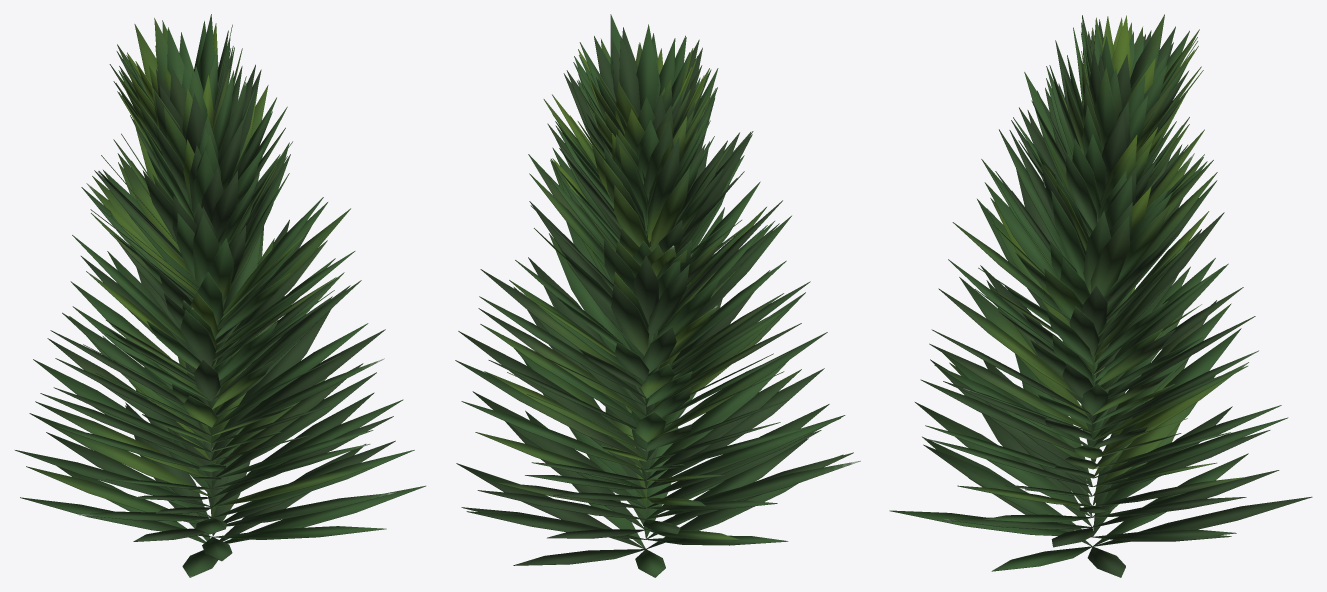
Rendered from bush2.glb.
3 views of the same model, side by side, from view 1: azimuth 30°, elevation 25°; view 2: azimuth 150°, elevation 25°; view 3: azimuth 270°, elevation 25° (orthographic). The views are drawn at different scales.
Visible parts, largest first — view 1: leaves.001; view 2: leaves.001; view 3: leaves.001.
Boxes of the visible parts, left/top/right/bottom form: leaves.001: left=15, top=14, right=425, bottom=577; leaves.001: left=455, top=14, right=860, bottom=577; leaves.001: left=889, top=14, right=1312, bottom=577.
Bounding box in the file's own units: 0.6512 × 0.943 × 0.6895.
1 material, 1 textured.
